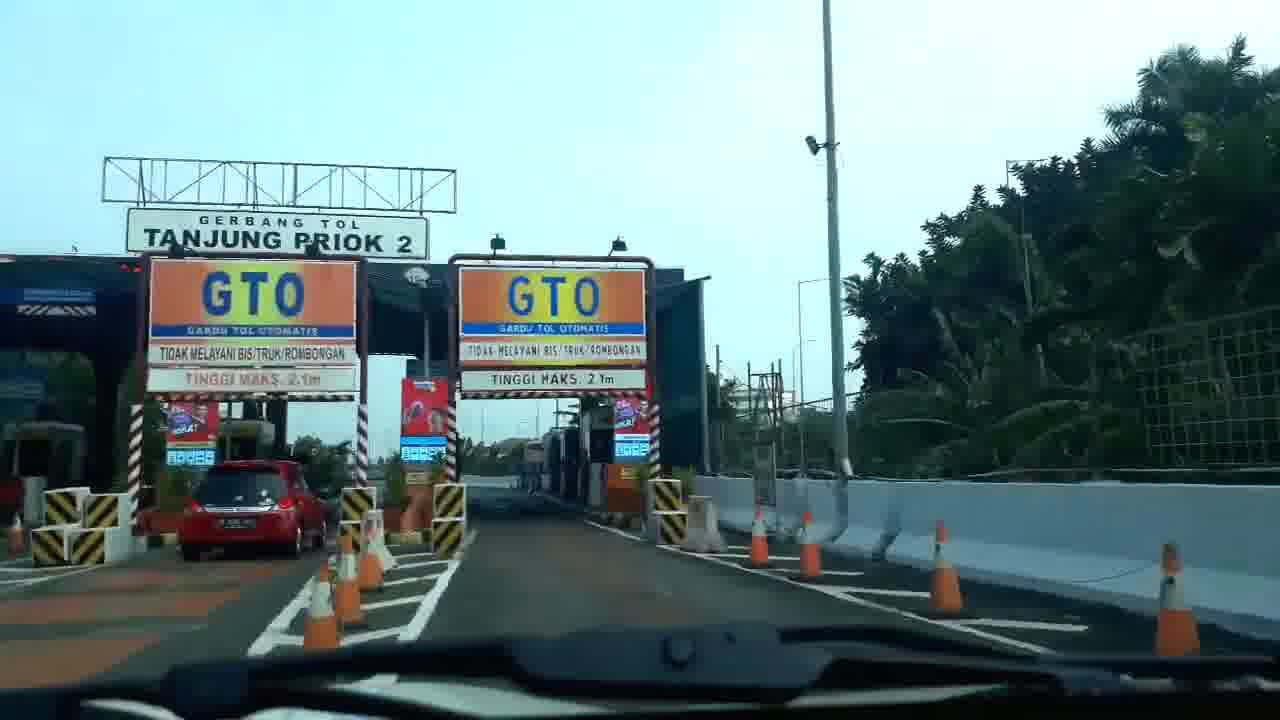plate_positive: (219, 518, 256, 529)
